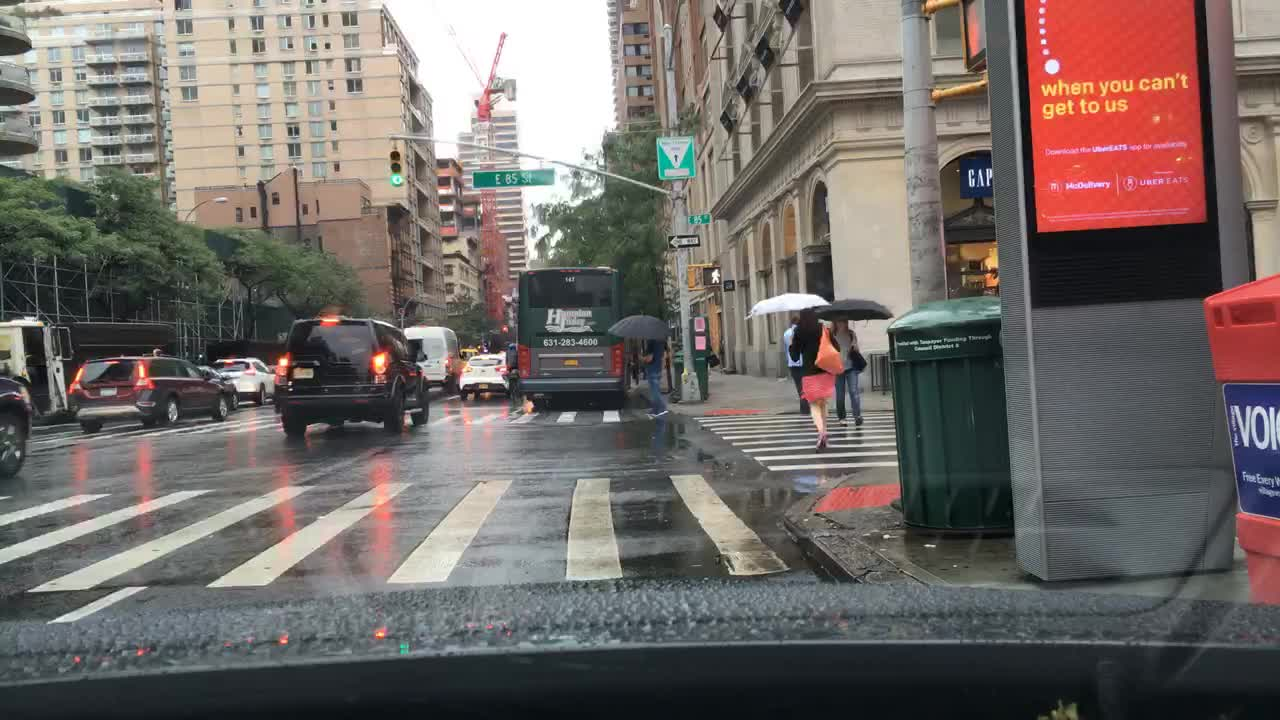bike: (506, 361, 521, 401)
bus: (516, 264, 627, 409)
car: (272, 316, 431, 432), (64, 354, 229, 430), (399, 324, 457, 391), (0, 373, 34, 481), (213, 355, 280, 408), (457, 354, 506, 398), (197, 365, 237, 411)
person: (751, 293, 843, 450), (819, 298, 894, 426), (608, 315, 675, 416), (783, 316, 811, 414)
rider: (504, 344, 520, 396)
traffic light: (960, 0, 986, 73), (386, 148, 404, 187), (701, 263, 721, 284), (687, 265, 696, 288)
traffic sign: (653, 134, 694, 178), (474, 168, 555, 187), (666, 234, 699, 247), (688, 213, 711, 223)
truck: (0, 313, 74, 417)
